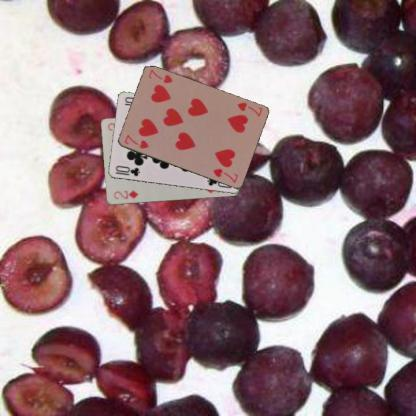10c: (113, 162, 141, 178)
2d: (110, 188, 140, 200)
7h: (234, 100, 263, 118), (122, 132, 150, 150)
